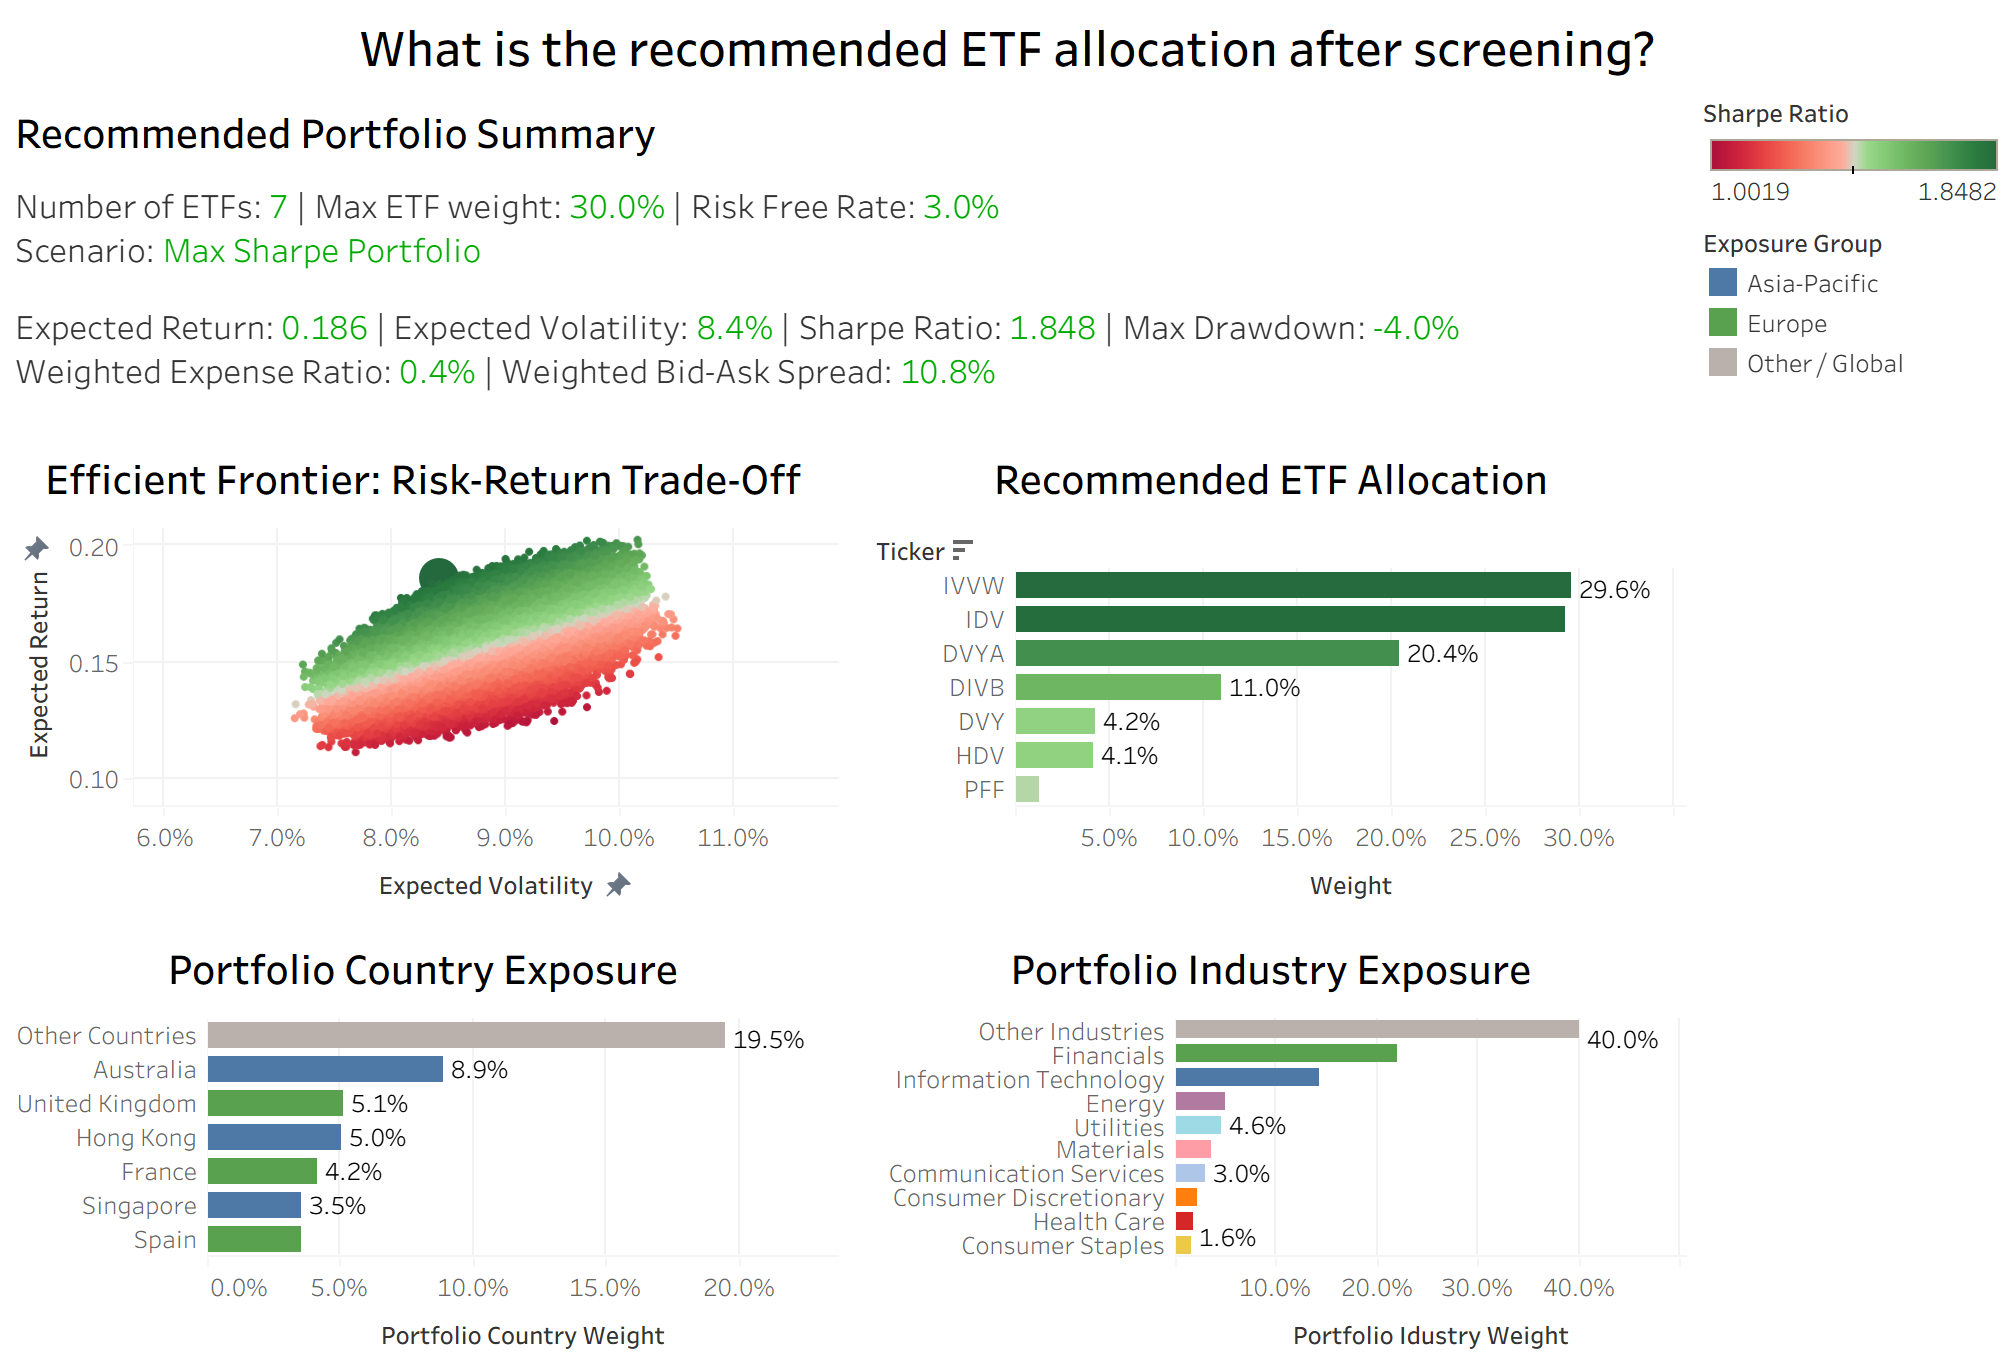

What the dashboard file says about the page in this screenshot:
{"tool":"tableau","page":{"name":"Dashboard 5","canvas":[1024,700],"ordinal":4},"visuals":[{"type":"title","box":[8,8,1008,41]},{"type":"worksheet","title":"5.1 Portfolio KPI Cards","mark":"Text","box":[8,49,848,173]},{"type":"legend","title":"5.2 Efficient Frontier","param":"[federated.0avg9e60fzarra1gdqf3l1grhy66].[avg:sharpe_ratio (optimizer!frontier):","box":[856,49,160,65]},{"type":"legend","title":"5.4 Portfolio Country Exposure","param":"[federated.0avg9e60fzarra1gdqf3l1grhy66].[none:exposure_group:nk]","box":[856,114,160,86]},{"type":"worksheet","title":"5.2 Efficient Frontier","mark":"Circle","rows":["expected_return (optimizer!frontier)"],"cols":["expected_volatility (optimizer!frontier)"],"box":[8,222,424,245.3]},{"type":"worksheet","title":"5.3 Optimal ETF weights","mark":"Automatic","rows":["ticker"],"cols":["weight"],"box":[432,222,424,245.3]},{"type":"worksheet","title":"5.4 Portfolio Country Exposure","mark":"Automatic","rows":["exposure_name"],"cols":["portfolio_exposure_weight"],"box":[8,467.3,424,224.7]},{"type":"worksheet","title":"5.5 Portfolio Industry Exposure","mark":"Automatic","rows":["exposure_name"],"cols":["portfolio_exposure_weight"],"box":[432,467.3,424,224.7]}]}

Visuals, with their boxes in screenshot pixels (x1, y1, x2, y2), scaled from the page's 1024x700 canvas onto the 2016x1372 screenshot:
title: <region>16, 16, 2000, 96</region>
"5.1 Portfolio KPI Cards" worksheet (Text marks): <region>16, 96, 1685, 435</region>
"5.2 Efficient Frontier" legend: <region>1685, 96, 2000, 223</region>
"5.4 Portfolio Country Exposure" legend: <region>1685, 223, 2000, 392</region>
"5.2 Efficient Frontier" worksheet (Circle marks): <region>16, 435, 850, 916</region>
"5.3 Optimal ETF weights" worksheet: <region>850, 435, 1685, 916</region>
"5.4 Portfolio Country Exposure" worksheet: <region>16, 916, 850, 1356</region>
"5.5 Portfolio Industry Exposure" worksheet: <region>850, 916, 1685, 1356</region>
